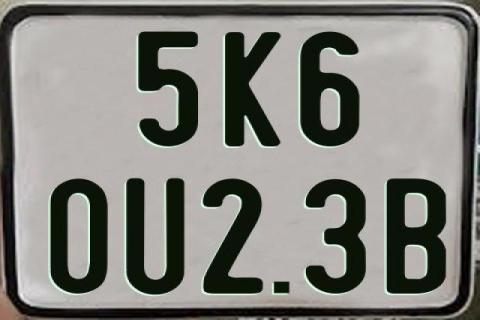0: (298, 29, 363, 147), (135, 30, 199, 148), (305, 179, 367, 297), (203, 178, 265, 294), (48, 178, 106, 298)
B: (384, 178, 449, 298)
K: (223, 30, 285, 144)
U: (123, 177, 183, 297)
